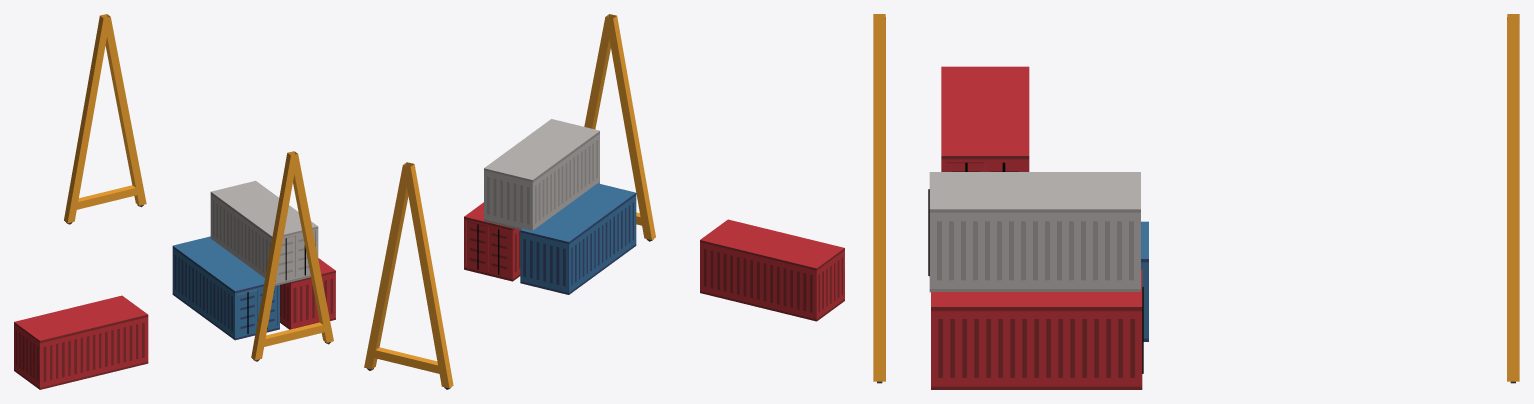
The model's file is level001-world_0_0.fbx.
The picture shows the model from 3 angles, left to right: view 1: azimuth 30°, elevation 25°; view 2: azimuth 150°, elevation 25°; view 3: azimuth 270°, elevation 25°; orthographic projection. The views are drawn at different scales.
Parts seen in each view (by area): view 1: level001_world_0_0; view 2: level001_world_0_0; view 3: level001_world_0_0.
Part boxes in pixels (x1,y1,x2,y2): level001_world_0_0: (14, 14, 335, 389); level001_world_0_0: (364, 14, 844, 389); level001_world_0_0: (873, 14, 1519, 389).
Bounding box in the file's own units: 1625 × 1056 × 1836.
